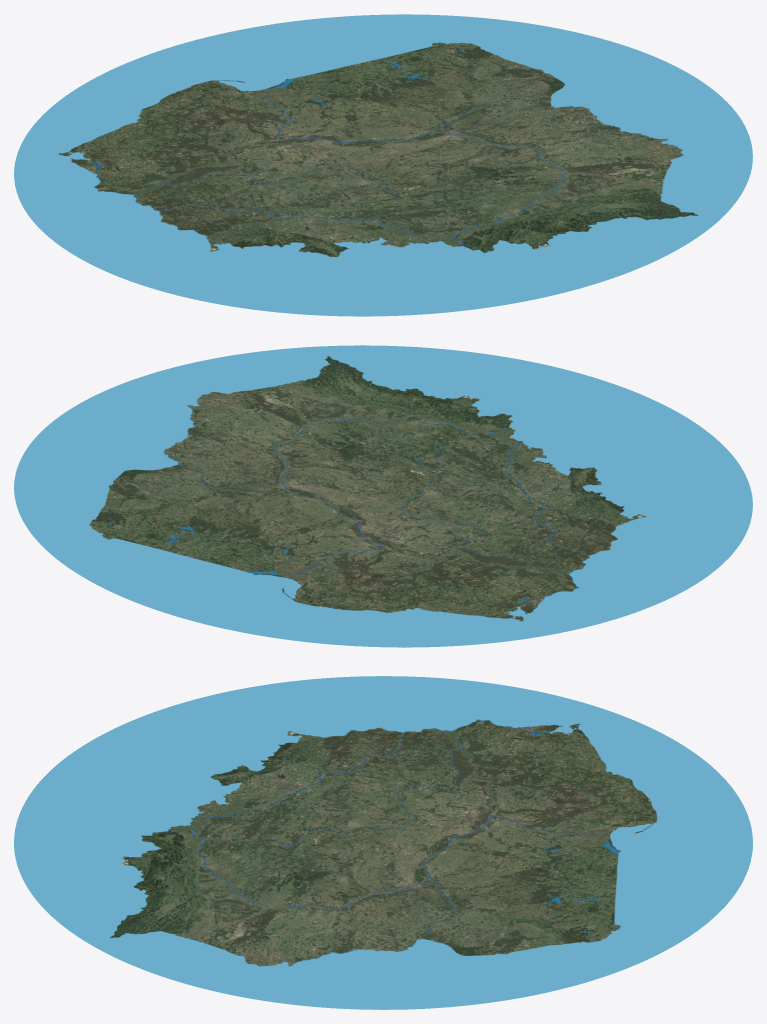
The model's file is POL-previa-terrain.glb.
The picture shows the model from 3 angles, top to bottom: view 1: azimuth 30°, elevation 25°; view 2: azimuth 150°, elevation 25°; view 3: azimuth 270°, elevation 25°; orthographic projection. The views are drawn at different scales.
Visible parts, largest first — view 1: Polónia; view 2: Polónia; view 3: Polónia.
Boxes of the visible parts, bbox=[...] form: Polónia: bbox=[14, 14, 752, 316]; Polónia: bbox=[14, 345, 752, 647]; Polónia: bbox=[14, 676, 752, 1009].
Size of the model in its own units: 2.38 by 0.0286 by 2.22.
Materials: 1 (1 with a texture image).
